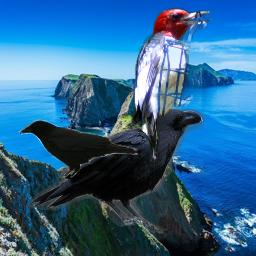Crow: (30, 109, 204, 235), (16, 117, 138, 178)
Woodpecker: (132, 7, 214, 166)
